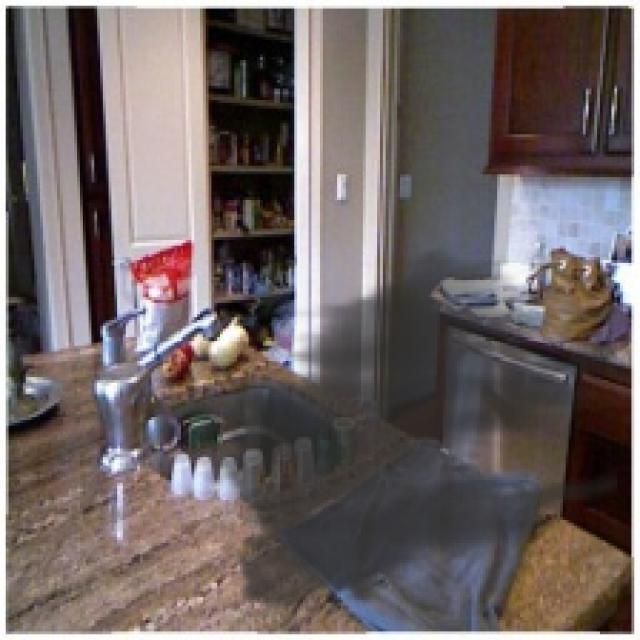Smoke: (197, 237, 617, 632)
